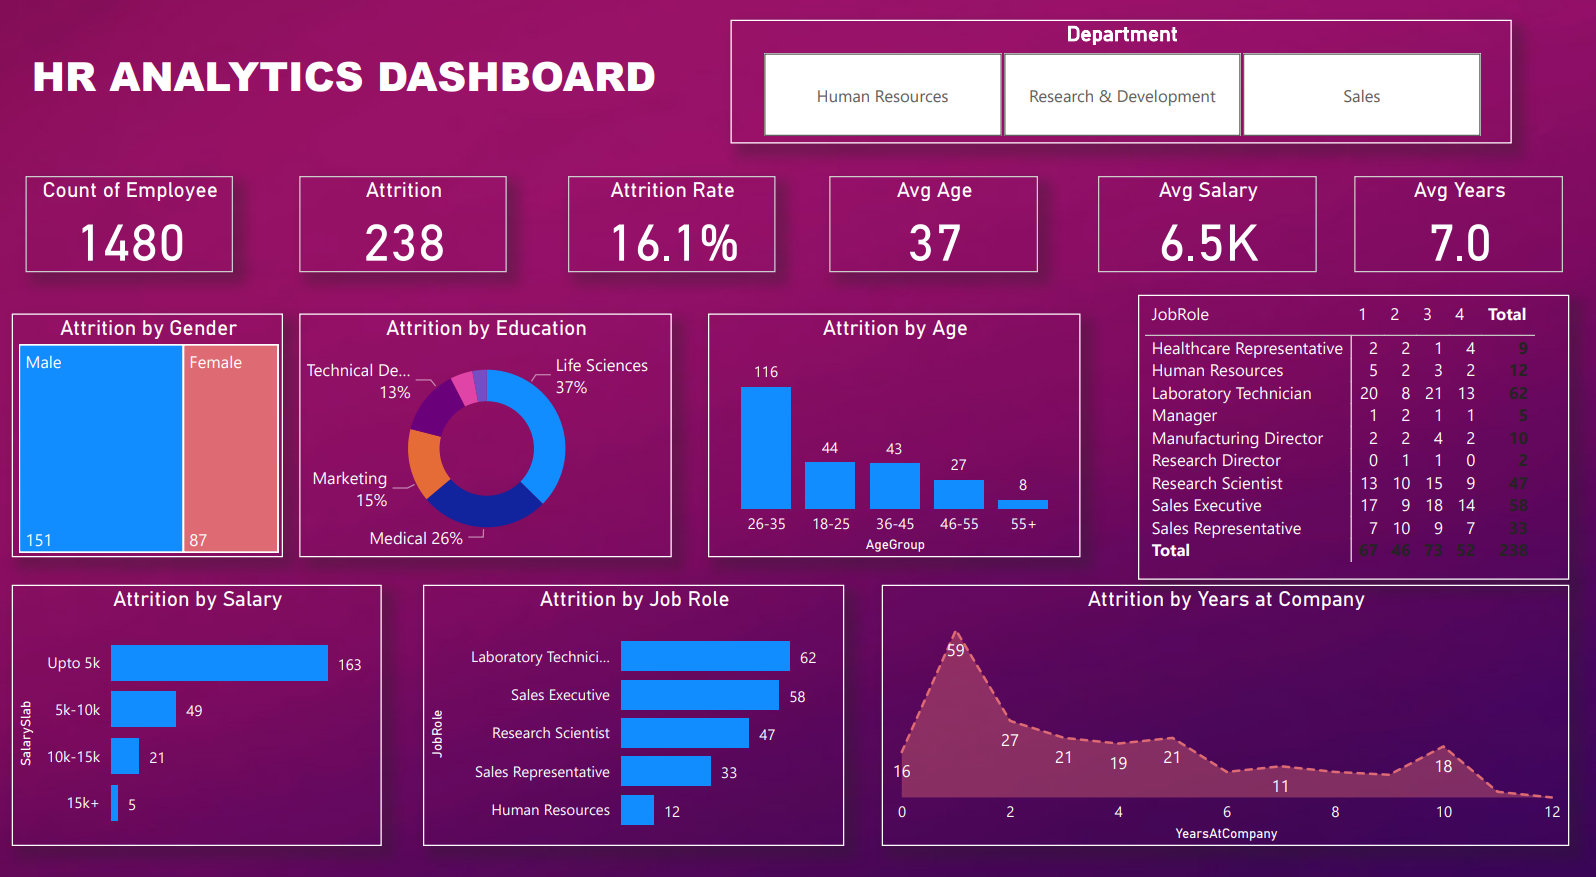

What the dashboard file says about the page in this screenshot:
{"tool":"powerbi","page":{"name":"Page 1","canvas":[1280,720],"ordinal":0},"visuals":[{"type":"card","title":"Count of Employee","fields":{"Values":["CountNonNull(HR_Analytics.EmpID)"]},"box":[21.5,152,166.3,77.4],"z":0},{"type":"card","title":"Attrition","fields":{"Values":["Sum(HR_Analytics.AttritionCount)"]},"box":[240.9,152,166.3,77.4],"z":1000},{"type":"card","title":"Attrition Rate","fields":{"Values":["HR_Analytics.AttritionRate"]},"box":[455.9,152,166.3,77.4],"z":2000},{"type":"card","title":"Avg Age","fields":{"Values":["Avg(HR_Analytics.Age)"]},"box":[665.2,152,166.3,77.4],"z":2001},{"type":"card","title":"Avg Salary","fields":{"Values":["Avg(HR_Analytics.MonthlyIncome)"]},"box":[880.3,152,174.9,77.4],"z":2002},{"type":"card","title":"Avg Years","fields":{"Values":["Avg(HR_Analytics.YearsAtCompany)"]},"box":[1085.3,152,166.3,77.4],"z":2003},{"type":"donutChart","title":" Attrition by Education","fields":{"Category":["HR_Analytics.EducationField"],"Y":["Sum(HR_Analytics.AttritionCount)"]},"box":[240.9,262.4,298.2,195],"z":2004},{"type":"clusteredColumnChart","title":" Attrition by Age","fields":{"Category":["HR_Analytics.AgeGroup"],"Y":["Sum(HR_Analytics.AttritionCount)"]},"box":[567.7,262.4,298.2,195],"z":2005},{"type":"pivotTable","fields":{"Rows":["HR_Analytics.JobRole"],"Columns":["HR_Analytics.JobSatisfaction"],"Values":["Sum(HR_Analytics.AttritionCount)"]},"box":[911.8,246.6,345.5,228],"z":2006},{"type":"barChart","title":" Attrition by Salary","fields":{"Category":["HR_Analytics.SalarySlab"],"Y":["Sum(HR_Analytics.AttritionCount)"]},"box":[11.5,478.9,295.3,209.3],"z":2007},{"type":"barChart","title":" Attrition by Job Role ","fields":{"Category":["HR_Analytics.JobRole"],"Y":["Sum(HR_Analytics.AttritionCount)"]},"box":[339.8,478.9,336.9,209.3],"z":2008},{"type":"stackedAreaChart","title":" Attrition by Years at Company","fields":{"Category":["HR_Analytics.YearsAtCompany"],"Y":["Sum(HR_Analytics.AttritionCount)"]},"box":[706.8,478.9,550.5,209.3],"z":2009},{"type":"treemap","title":" Attrition by Gender","fields":{"Values":["Sum(HR_Analytics.AttritionCount)"],"Group":["HR_Analytics.Gender"]},"box":[11.5,262.4,216.5,195],"z":2010},{"type":"slicer","title":"Department","fields":{"Values":["HR_Analytics.Department"]},"box":[586.4,27.2,625.1,98.9],"z":2011},{"type":"textbox","box":[21.5,44.4,546.2,66],"z":2012}]}

Visuals, with their boxes in screenshot pixels (x1, y1, x2, y2), scaled from the page's 1280x720 canvas onto the 1596x877 screenshot:
"Count of Employee" card: (x1=27, y1=185, x2=234, y2=279)
"Attrition" card: (x1=300, y1=185, x2=508, y2=279)
"Attrition Rate" card: (x1=568, y1=185, x2=776, y2=279)
"Avg Age" card: (x1=829, y1=185, x2=1037, y2=279)
"Avg Salary" card: (x1=1098, y1=185, x2=1316, y2=279)
"Avg Years" card: (x1=1353, y1=185, x2=1561, y2=279)
" Attrition by Education" donutChart: (x1=300, y1=320, x2=672, y2=557)
" Attrition by Age" clusteredColumnChart: (x1=708, y1=320, x2=1080, y2=557)
pivotTable - HR_Analytics.JobRole x HR_Analytics.JobSatisfaction: (x1=1137, y1=300, x2=1568, y2=578)
" Attrition by Salary" barChart: (x1=14, y1=583, x2=383, y2=838)
" Attrition by Job Role " barChart: (x1=424, y1=583, x2=844, y2=838)
" Attrition by Years at Company" stackedAreaChart: (x1=881, y1=583, x2=1568, y2=838)
" Attrition by Gender" treemap: (x1=14, y1=320, x2=284, y2=557)
"Department" slicer: (x1=731, y1=33, x2=1511, y2=154)
textbox: (x1=27, y1=54, x2=708, y2=134)
